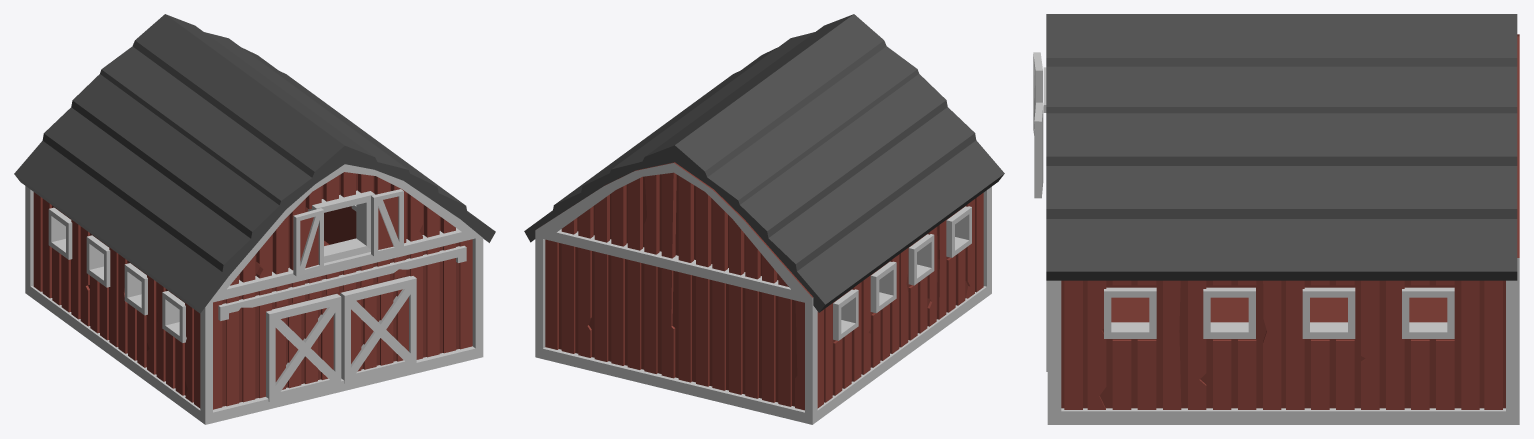
File: barn.glb
3 views of the same model, side by side, from view 1: azimuth 30°, elevation 25°; view 2: azimuth 150°, elevation 25°; view 3: azimuth 270°, elevation 25° (orthographic). The views are drawn at different scales.
Parts seen in each view (by area): view 1: Barn_Cube.005; view 2: Barn_Cube.005; view 3: Barn_Cube.005.
Boxes of the visible parts, x1,y1,x2,y2 form: Barn_Cube.005: [14, 14, 495, 424]; Barn_Cube.005: [524, 14, 1004, 424]; Barn_Cube.005: [1033, 14, 1519, 424].
Bounding box in the file's own units: 7.73 × 6.01 × 8.22.
